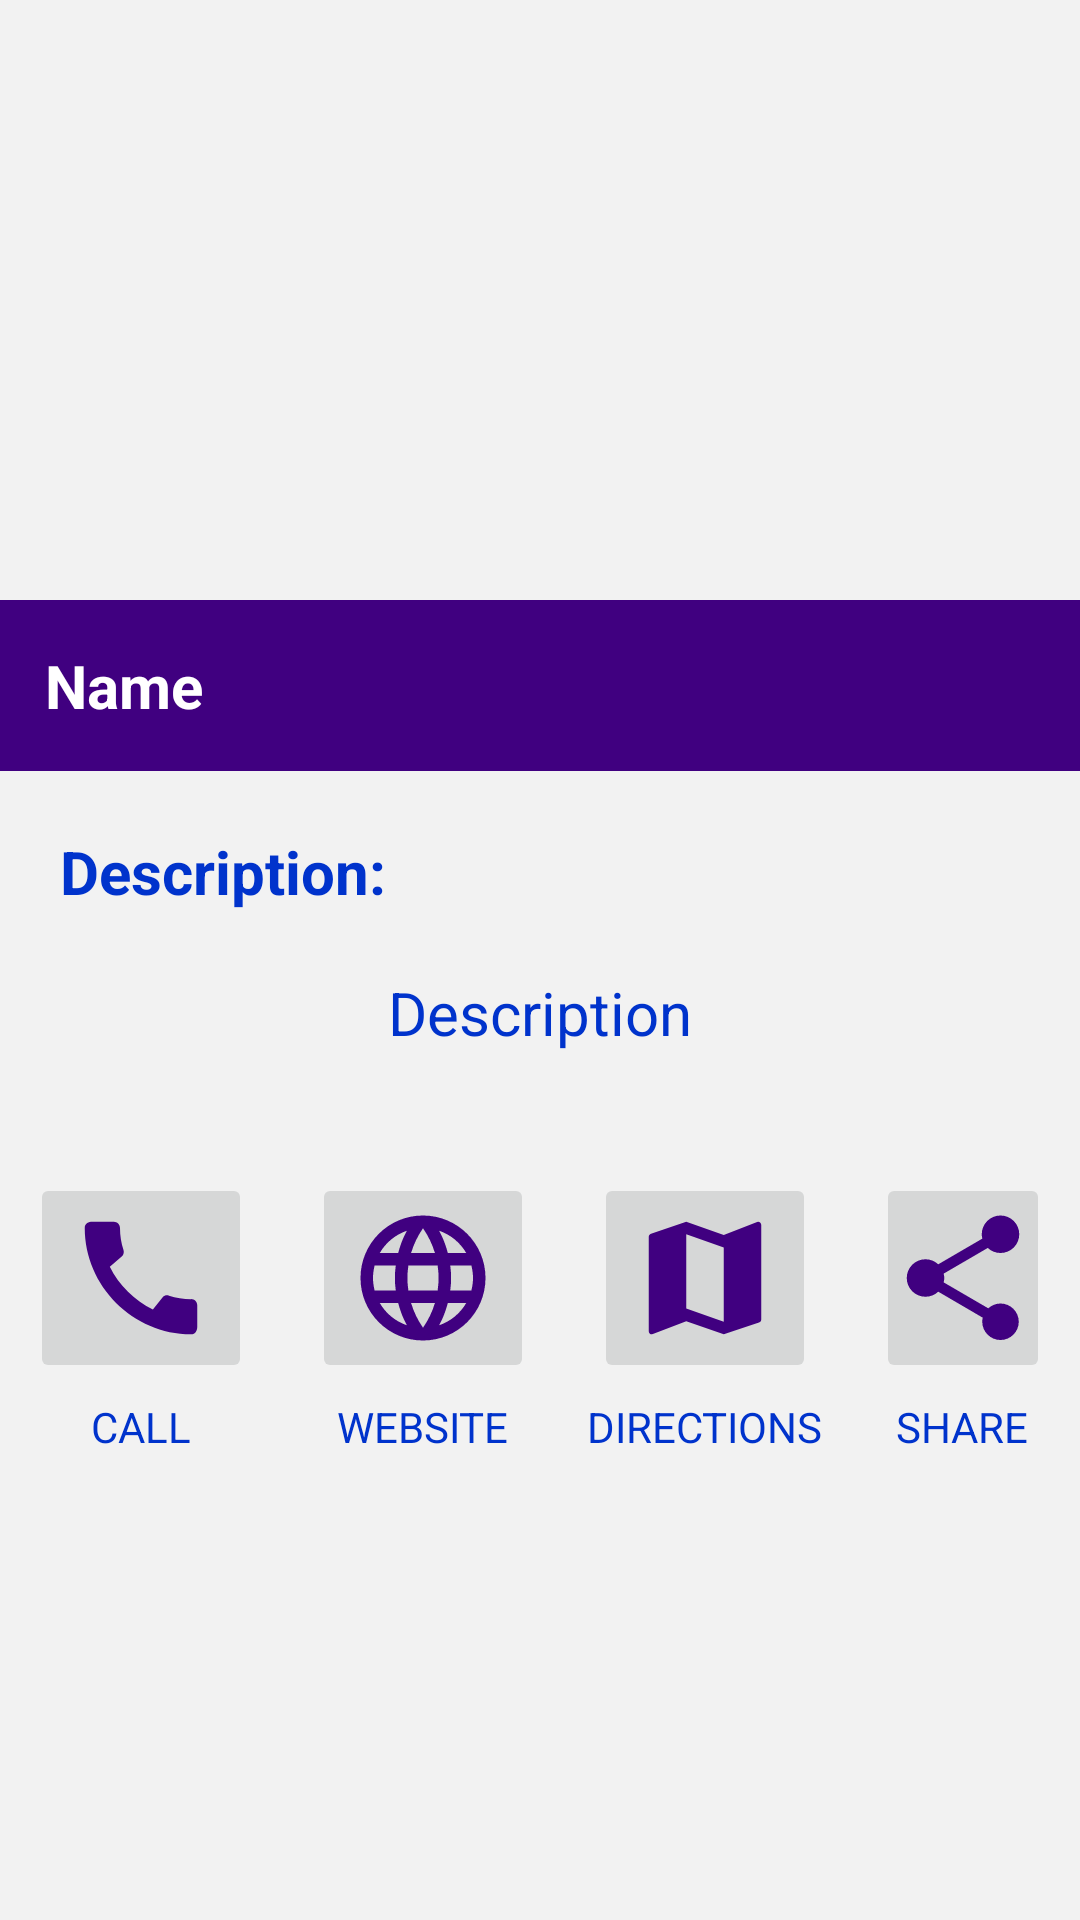

Named icons in this screenshot (1080×1920) and their centers, point (x, y):
map: point (705, 1278)
